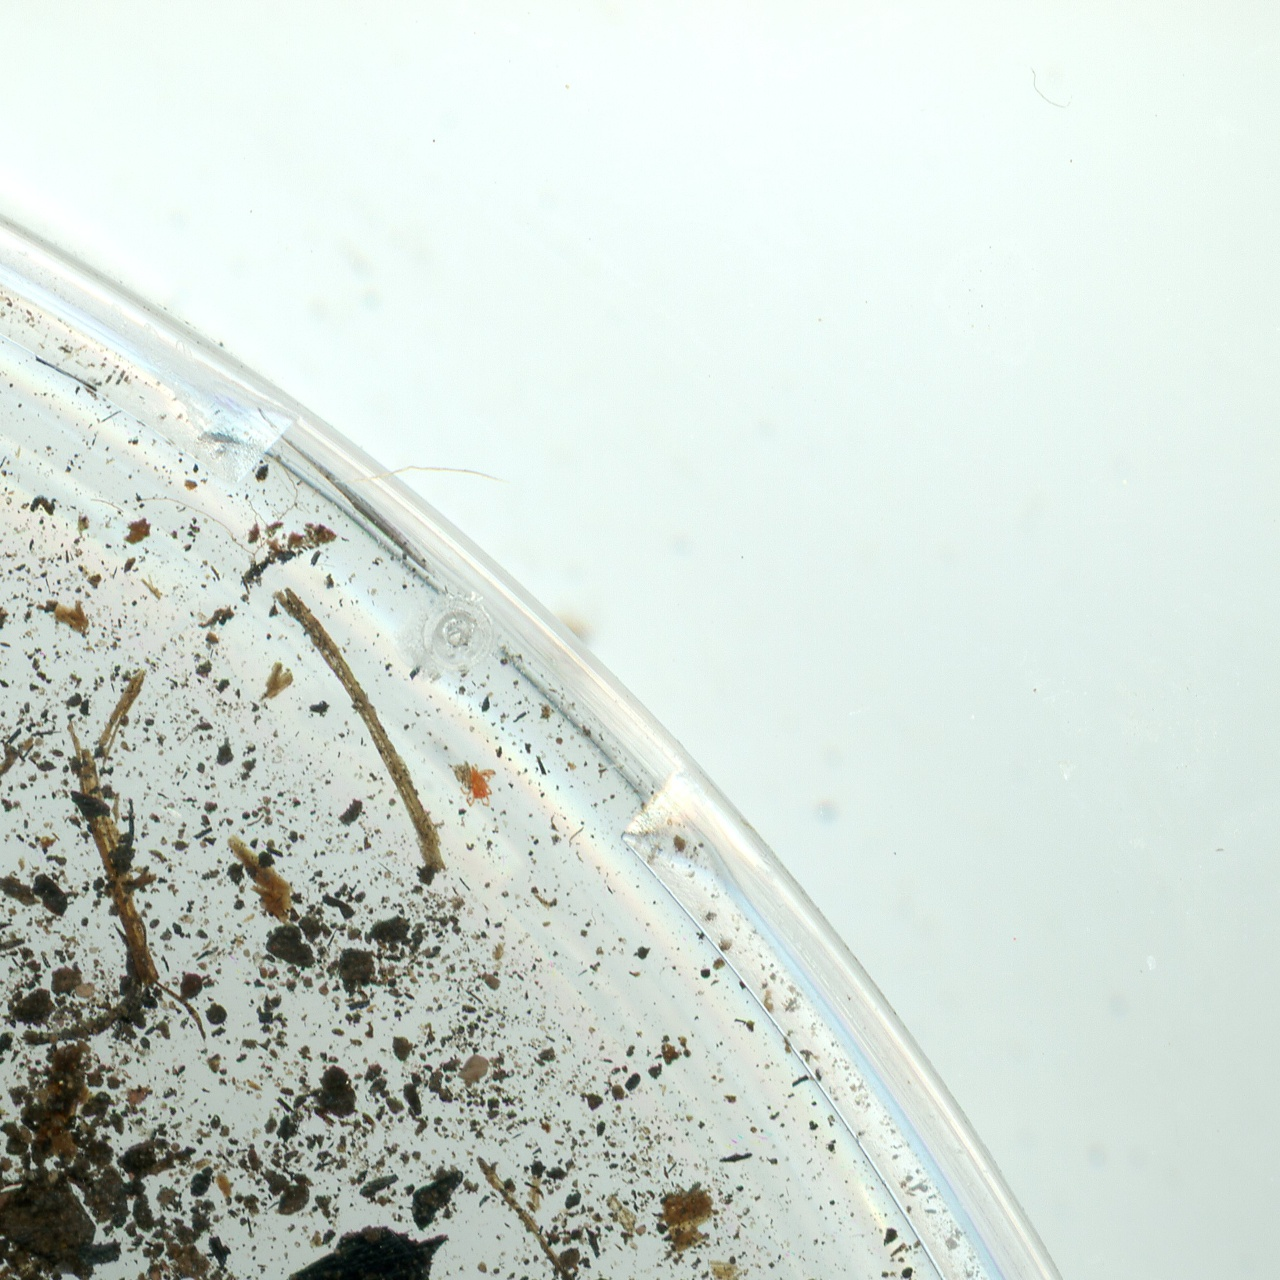arthropod: (458, 762, 498, 808)
